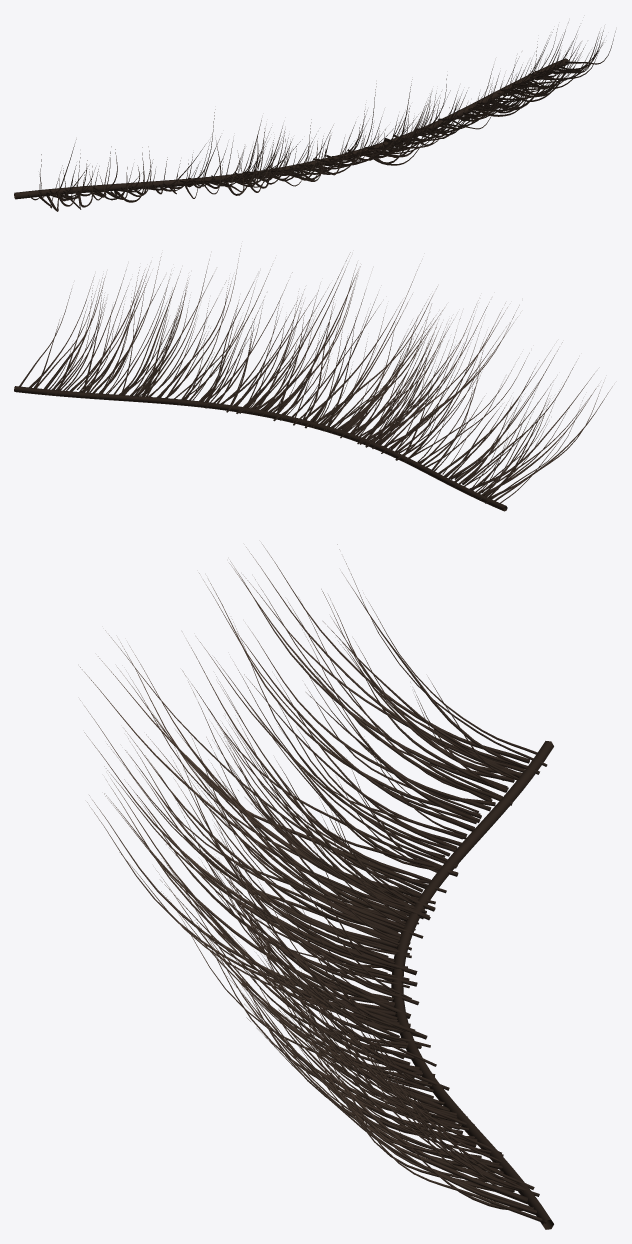
File: cateyeleft.glb
The picture shows the model from 3 angles, top to bottom: view 1: azimuth 30°, elevation 25°; view 2: azimuth 150°, elevation 25°; view 3: azimuth 270°, elevation 25°; orthographic projection. The views are drawn at different scales.
Parts seen in each view (by area): view 1: natural_left; view 2: natural_left; view 3: natural_left.
Part boxes in pixels (x1,y1,x2,y2): natural_left: (14, 22, 615, 211); natural_left: (14, 248, 612, 511); natural_left: (80, 544, 553, 1229).
Size of the model in its own units: 3.23 by 0.7233 by 1.26.
